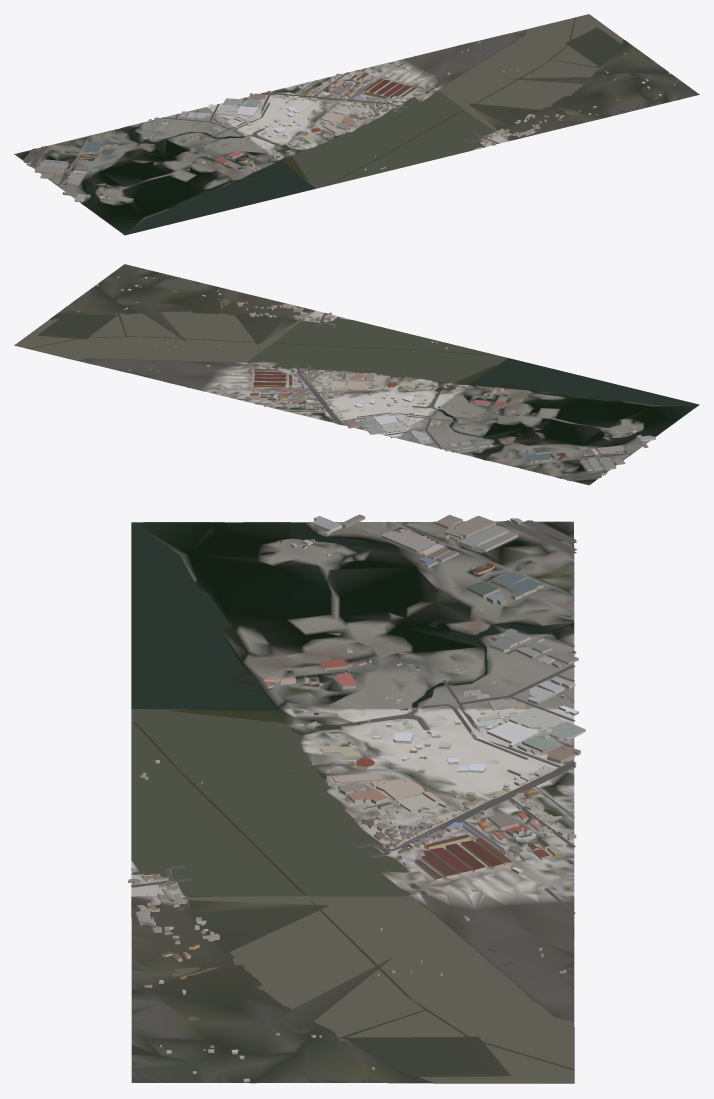
3 views of the same model, one above another, from view 1: azimuth 30°, elevation 25°; view 2: azimuth 150°, elevation 25°; view 3: azimuth 270°, elevation 25° (orthographic). The views are drawn at different scales.
Parts seen in each view (by area): view 1: ground, water, buildings, roads; view 2: ground, water, buildings, roads; view 3: ground, water, buildings, roads.
Part boxes in pixels (x1,y1,x2,y2): ground: (14,17,699,235); water: (81,14,678,235); buildings: (26,42,675,202); roads: (24,56,499,167); ground: (14,264,697,485); water: (14,269,699,460); buildings: (77,276,655,475); roads: (187,313,607,481); ground: (131,521,574,1083); water: (131,522,574,1083); buildings: (128,514,585,1082); roads: (131,520,576,913).
Size of the model in its own units: 4239 by 25.1 by 1448.
